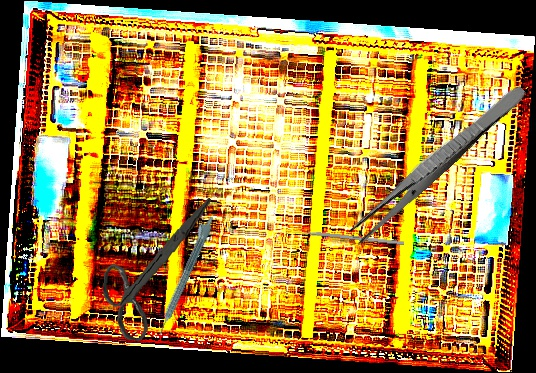Dressing Forceps: (344, 78, 530, 248)
Handpiece: (150, 213, 217, 337)
Iris Scissors: (98, 189, 212, 347)
Pusher: (285, 228, 404, 246)
